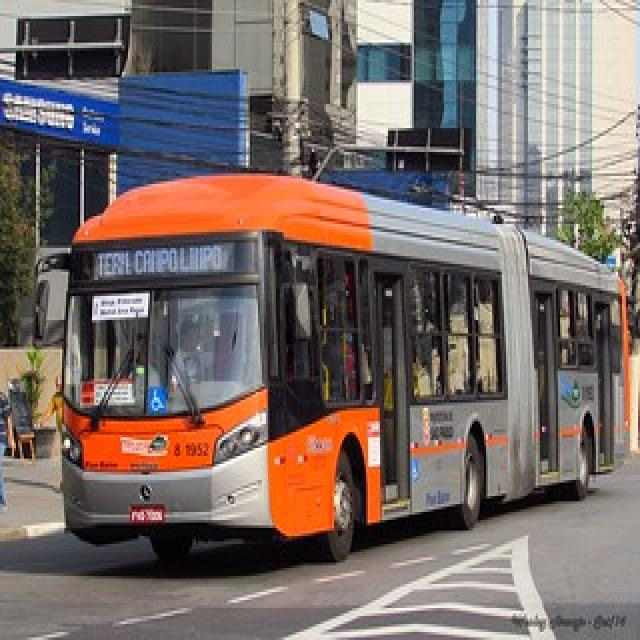AB: (32, 163, 640, 573)
